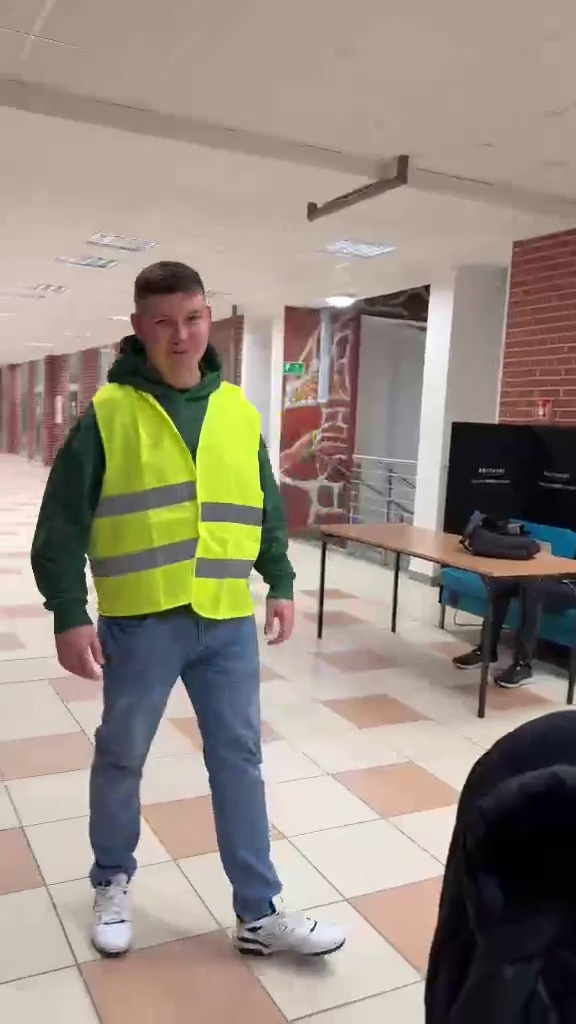vest: (31, 258, 345, 964)
